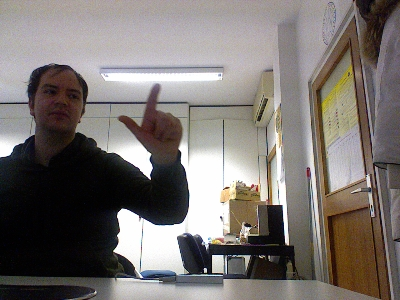枪: (115, 80, 183, 157)
